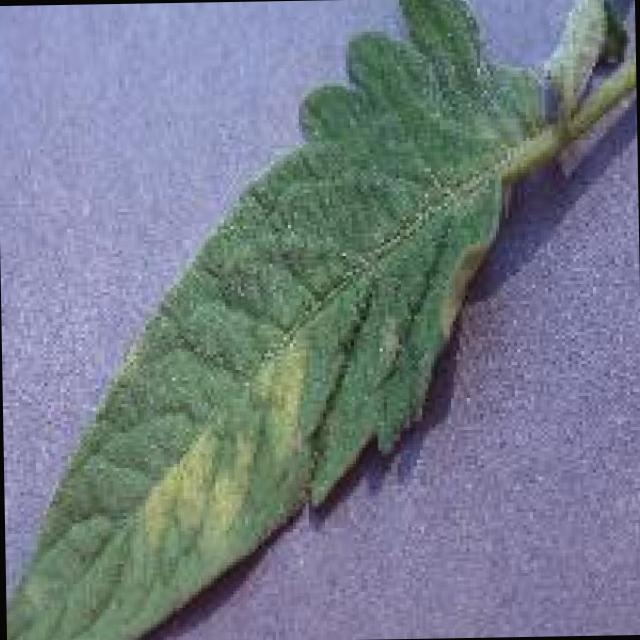leaf mold: (5, 0, 636, 640)
